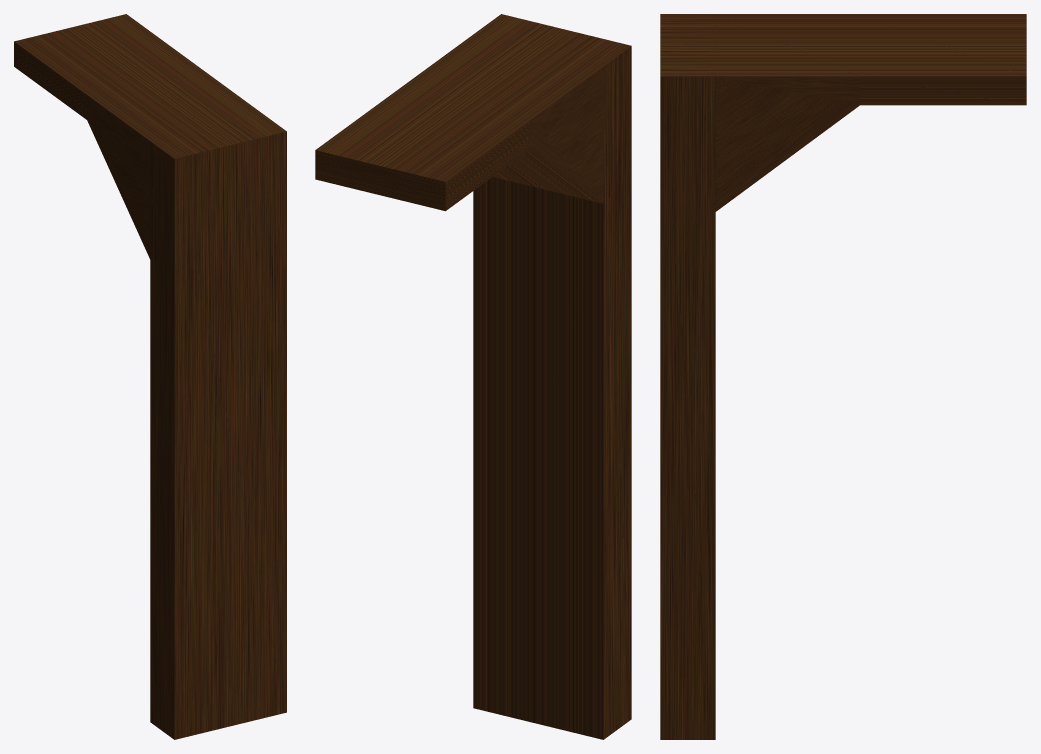
The model's file is doorframe.obj.
3 renders of one model, left to right at view 1: azimuth 30°, elevation 25°; view 2: azimuth 150°, elevation 25°; view 3: azimuth 270°, elevation 25°, orthographic. The views are drawn at different scales.
Parts seen in each view (by area): view 1: Cube; view 2: Cube; view 3: Cube.
Part boxes in pixels (x1,y1,x2,y2): Cube: (14,14,286,739); Cube: (315,14,631,739); Cube: (660,14,1026,739).
Bounding box in the file's own units: 0.9667 × 4.77 × 2.39.
